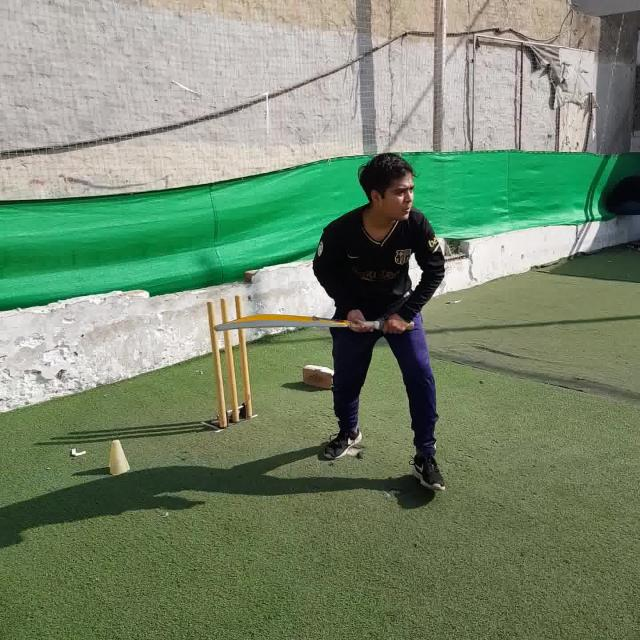bat: (214, 314, 414, 335)
